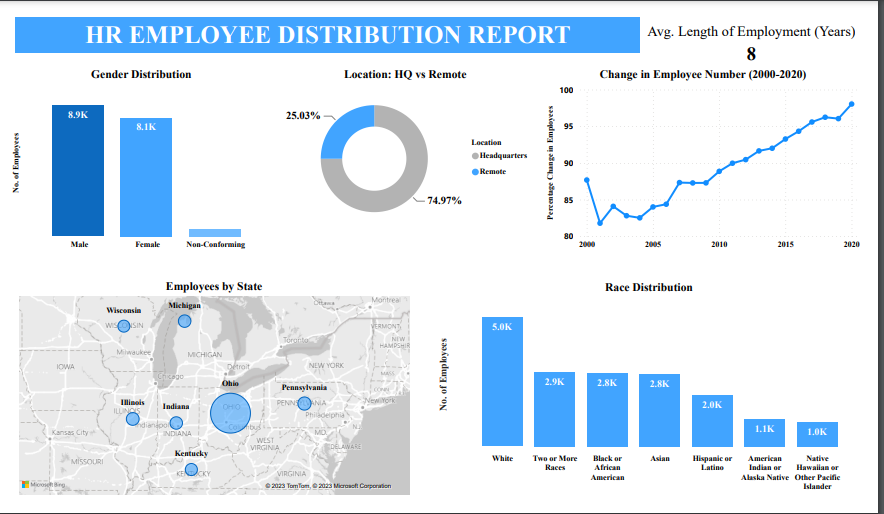

What the dashboard file says about the page in this screenshot:
{"tool":"powerbi","page":{"name":"Page 1","canvas":[1280,720],"ordinal":0},"visuals":[{"type":"textbox","box":[10.1,0,936,53.3],"z":0},{"type":"card","title":"Avg. Length of Employment (Years)","fields":{"Values":["Sum(emp_length_avg.emp_length_avg)"]},"box":[946.1,10.1,334.1,66.2],"z":1000},{"type":"columnChart","title":"Gender Distribution","fields":{"Category":["gender.gender"],"Y":["Sum(gender.count)"]},"box":[0,76.3,397.4,280.8],"z":2000},{"type":"donutChart","title":"Location: HQ vs Remote","fields":{"Y":["Sum(location.count)"],"Category":["location.location"]},"box":[397.4,76.3,393.1,253.4],"z":3000},{"type":"lineChart","title":"Change in Employee Number (2000-2020)","fields":{"Category":["employee_count_over_time.year"],"Y":["Sum(employee_count_over_time.net_change_pct)"]},"box":[800.6,76.3,479.5,280.8],"z":4000},{"type":"map","title":"Employees by State","fields":{"Size":["Sum(employees_by_state.count)"],"Category":["employees_by_state.location_state"]},"box":[10.1,394.6,594.7,326.9],"z":5000},{"type":"clusteredColumnChart","title":"Race Distribution","fields":{"Y":["Sum(race.count)"],"Category":["race.race"]},"box":[639.4,396,640.8,322.6],"z":6000}]}

Visuals, with their boxes on the page's 1280x720 design canvas (x1, y1, x2, y2). These are canvas units, not pixel positions in the 884x514 screenshot, which may show the page scaled, cropped or inside an application window:
textbox: 10/0/946/53
"Avg. Length of Employment (Years)" card: 946/10/1280/76
"Gender Distribution" columnChart: 0/76/397/357
"Location: HQ vs Remote" donutChart: 397/76/790/330
"Change in Employee Number (2000-2020)" lineChart: 801/76/1280/357
"Employees by State" map: 10/395/605/722
"Race Distribution" clusteredColumnChart: 639/396/1280/719
